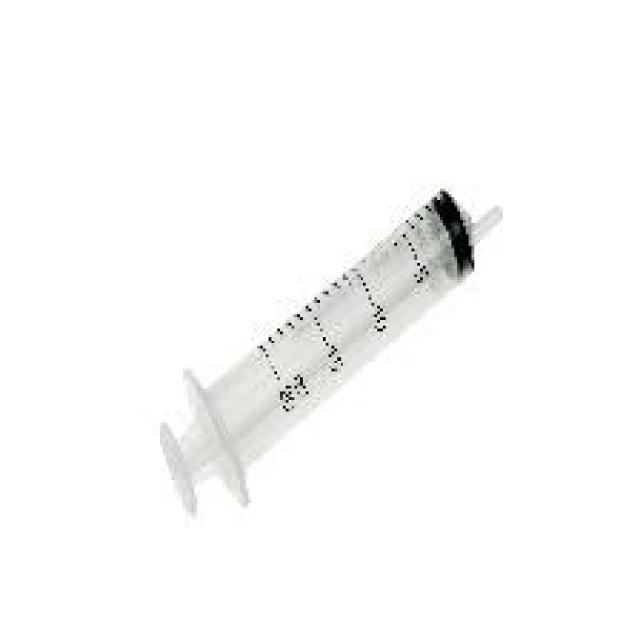syringe: (142, 148, 553, 566)
